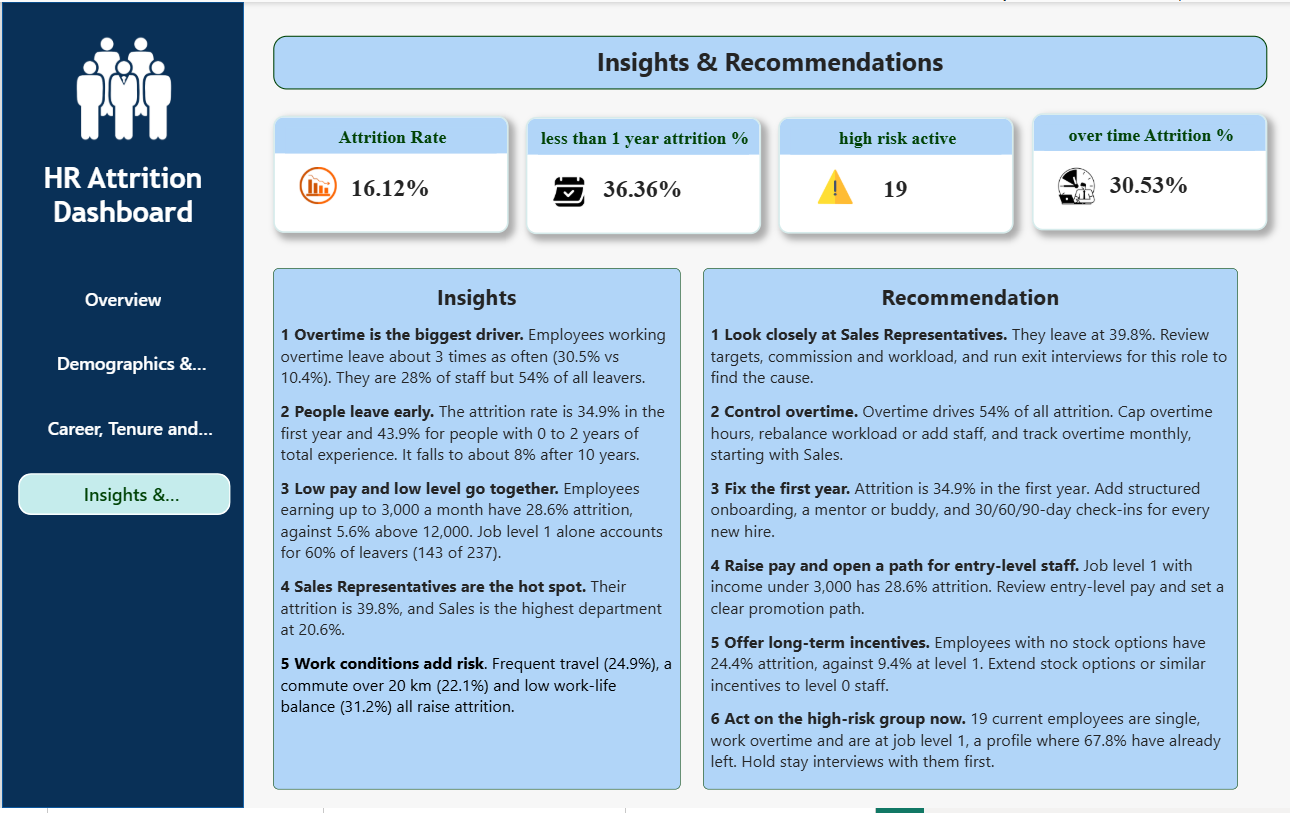

What the dashboard file says about the page in this screenshot:
{"tool":"powerbi","page":{"name":"Insights & Recommendations","canvas":[1920,1200],"ordinal":3},"visuals":[{"type":"shape","box":[0,0,360,1200],"z":0},{"type":"textbox","box":[0,182,360,184],"z":1000},{"type":"image","box":[84,50,194,158],"z":2000},{"type":"card","title":"high risk active","fields":{"Values":["Hr_attrition.High Risk Active"]},"box":[1155,171.7,350,173.3],"z":3000},{"type":"card","title":"Attrition Rate","fields":{"Values":["Hr_attrition.Attrition Rate"]},"box":[403.2,169.9,350,174],"z":4000},{"type":"card","title":"less than 1 year          attrition %","fields":{"Values":["Hr_attrition.First Year Attrition %"]},"box":[779.9,172,350,174],"z":5000},{"type":"card","title":"over time Attrition %","fields":{"Values":["Hr_attrition.Overtime Attrition %"]},"box":[1533.2,165.6,350,174],"z":6000},{"type":"textbox","box":[404,50,1480,80],"z":7000},{"type":"textbox","box":[404,396,606,776],"z":8000},{"type":"textbox","box":[1044,396,796,776],"z":9000},{"type":"actionButton","box":[22,412,316,62],"z":10000},{"type":"actionButton","box":[22,601.3,316,68],"z":11000},{"type":"actionButton","box":[24,506.7,316,62],"z":12000},{"type":"actionButton","box":[24,702,316,62],"z":13000},{"type":"image","box":[440,245,63.3,55],"z":14000},{"type":"image","box":[1203.3,246.7,73.3,55],"z":15000},{"type":"image","box":[1563.3,245,73.3,56.7],"z":16000},{"type":"image","box":[806.7,253.3,73.3,56.7],"z":17000}]}

Visuals, with their boxes on the page's 1920x1200 design canvas (x1, y1, x2, y2). These are canvas units, not pixel positions in the 1290x813 screenshot, which may show the page scaled, cropped or inside an application window:
shape: l=0, t=0, r=360, b=1200
textbox: l=0, t=182, r=360, b=366
image: l=84, t=50, r=278, b=208
"high risk active" card: l=1155, t=172, r=1505, b=345
"Attrition Rate" card: l=403, t=170, r=753, b=344
"less than 1 year          attrition %" card: l=780, t=172, r=1130, b=346
"over time Attrition %" card: l=1533, t=166, r=1883, b=340
textbox: l=404, t=50, r=1884, b=130
textbox: l=404, t=396, r=1010, b=1172
textbox: l=1044, t=396, r=1840, b=1172
actionButton: l=22, t=412, r=338, b=474
actionButton: l=22, t=601, r=338, b=669
actionButton: l=24, t=507, r=340, b=569
actionButton: l=24, t=702, r=340, b=764
image: l=440, t=245, r=503, b=300
image: l=1203, t=247, r=1277, b=302
image: l=1563, t=245, r=1637, b=302
image: l=807, t=253, r=880, b=310
